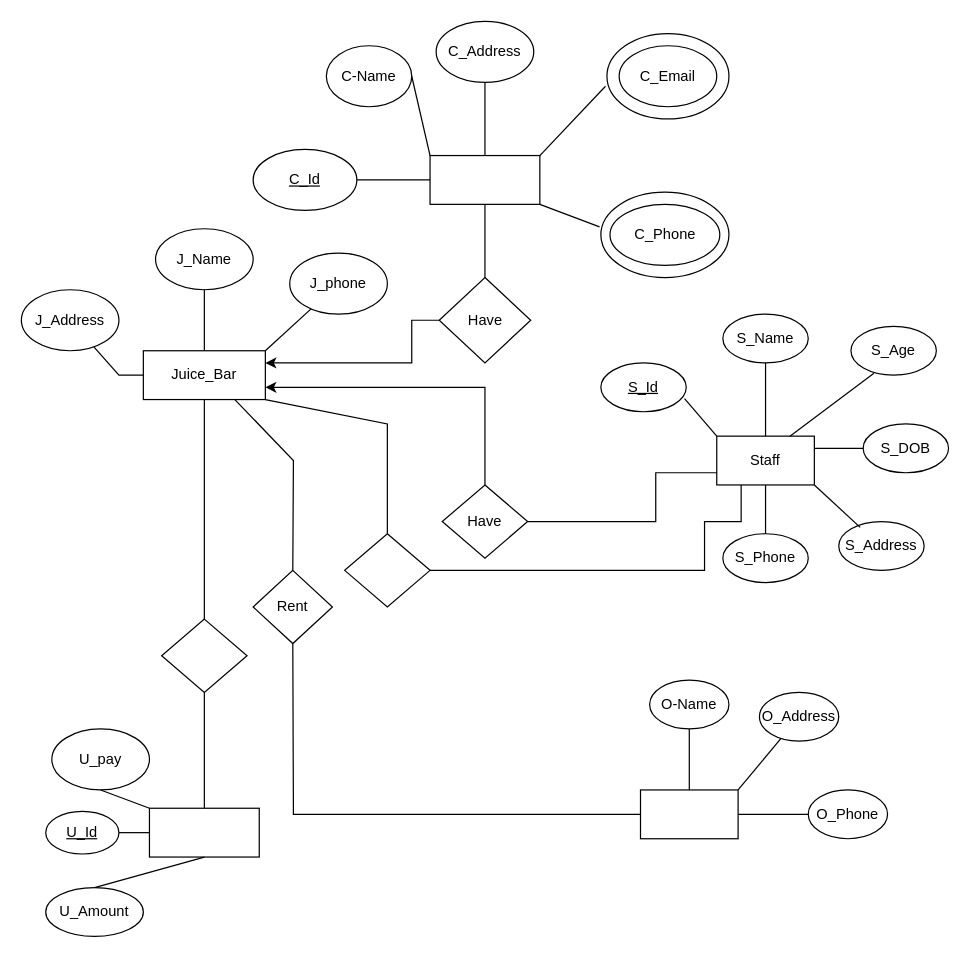
Image size: 970x958. Some labels were removed from this diagram. The shapes that lost their labels are listed below. From the top down, each one's box as (x1, y1, x2, y2) in pixels, then its label:
(429, 154, 540, 204): Customer
(343, 533, 430, 607): Work
(160, 618, 247, 692): Pay
(148, 807, 259, 857): utility
(639, 789, 738, 839): Owner
